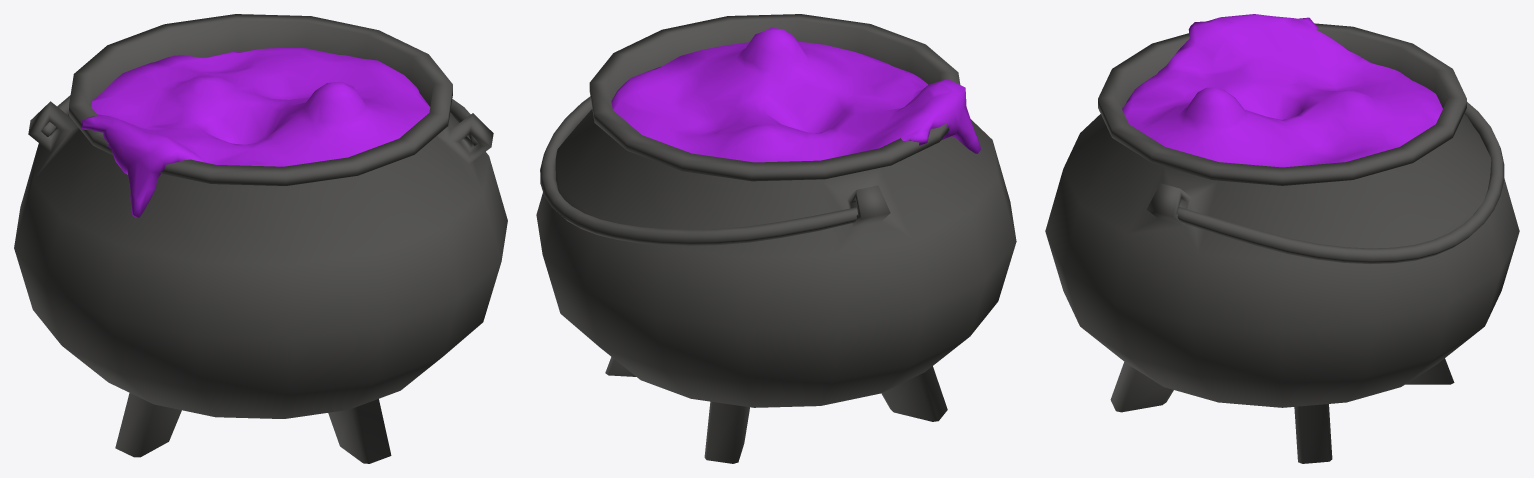
Rendered from cauldron.fbx.
3 renders of one model, left to right at view 1: azimuth 30°, elevation 25°; view 2: azimuth 150°, elevation 25°; view 3: azimuth 270°, elevation 25°, orthographic. The views are drawn at different scales.
Visible parts, largest first — view 1: Cauldron, Elixir, BezierCurve; view 2: Cauldron, Elixir, BezierCurve; view 3: Cauldron, Elixir, BezierCurve.
Boxes of the visible parts, x1,y1,x2,y2 form: Cauldron: [14, 14, 507, 463]; Elixir: [81, 48, 430, 217]; BezierCurve: [41, 95, 478, 146]; Cauldron: [536, 14, 1016, 463]; Elixir: [611, 27, 981, 162]; BezierCurve: [540, 96, 857, 245]; Cauldron: [1045, 23, 1519, 463]; Elixir: [1122, 14, 1442, 167]; BezierCurve: [1177, 102, 1504, 264].
Size of the model in its own units: 50 by 37.21 by 50.
